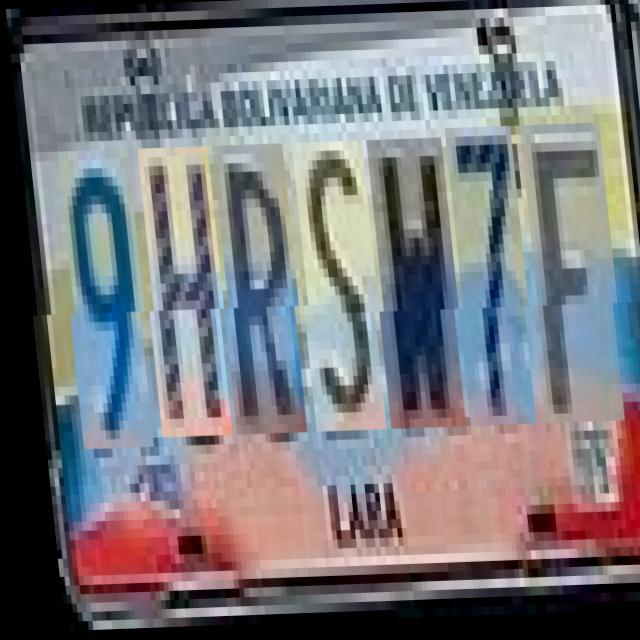7: (442, 130, 532, 429)
9: (54, 150, 148, 450)
F: (516, 127, 620, 427)
H: (134, 148, 228, 438)
R: (208, 146, 302, 437)
S: (288, 143, 382, 434)
W: (363, 140, 461, 432)
